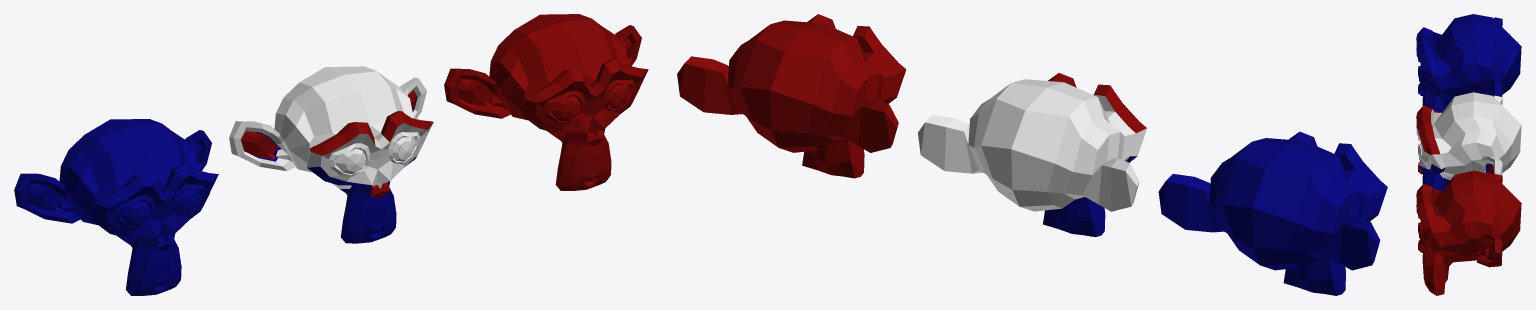
Rendered from ColoredMonkeys.glb.
3 views of the same model, side by side, from view 1: azimuth 30°, elevation 25°; view 2: azimuth 150°, elevation 25°; view 3: azimuth 270°, elevation 25° (orthographic). The views are drawn at different scales.
Parts seen in each view (by area): view 1: Suzanne.001, Suzanne.002, Suzanne; view 2: Suzanne.002, Suzanne.001, Suzanne; view 3: Suzanne.001, Suzanne, Suzanne.002.
Part boxes in pixels (left/top/right/bottom): Suzanne.001: left=444, top=14, right=648, bottom=190; Suzanne.002: left=14, top=119, right=218, bottom=295; Suzanne: left=229, top=66, right=433, bottom=243; Suzanne.002: left=1158, top=131, right=1387, bottom=295; Suzanne.001: left=677, top=14, right=906, bottom=178; Suzanne: left=918, top=73, right=1146, bottom=237; Suzanne.001: left=1416, top=170, right=1521, bottom=295; Suzanne: left=1416, top=92, right=1521, bottom=191; Suzanne.002: left=1416, top=14, right=1521, bottom=112.
Bounding box in the file's own units: 8.73 × 1.97 × 1.7.
